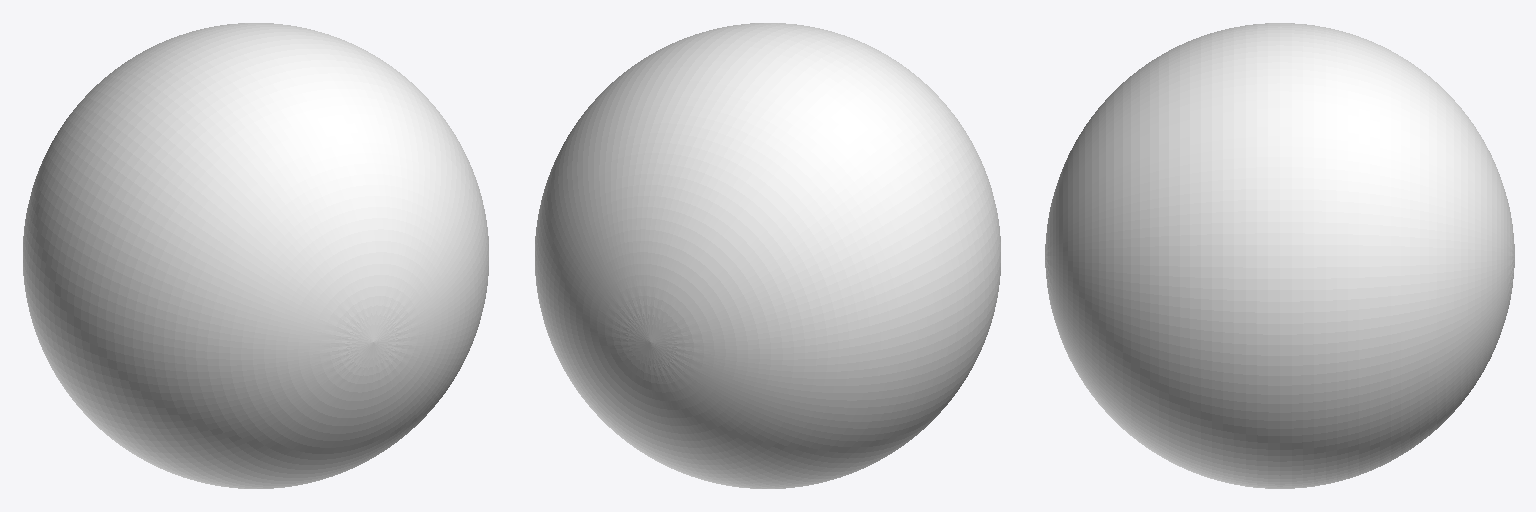
File: 13913_Sun_v2_l3.obj
3 renders of one model, left to right at view 1: azimuth 30°, elevation 25°; view 2: azimuth 150°, elevation 25°; view 3: azimuth 270°, elevation 25°, orthographic.
Visible parts, largest first — view 1: 13913_Sun_v2_l3; view 2: 13913_Sun_v2_l3; view 3: 13913_Sun_v2_l3.
Part boxes in pixels (bbox=[...]): 13913_Sun_v2_l3: bbox=[23, 23, 488, 488]; 13913_Sun_v2_l3: bbox=[535, 23, 1000, 488]; 13913_Sun_v2_l3: bbox=[1045, 23, 1514, 488].
Size of the model in its own units: 4.64 by 4.64 by 4.69.